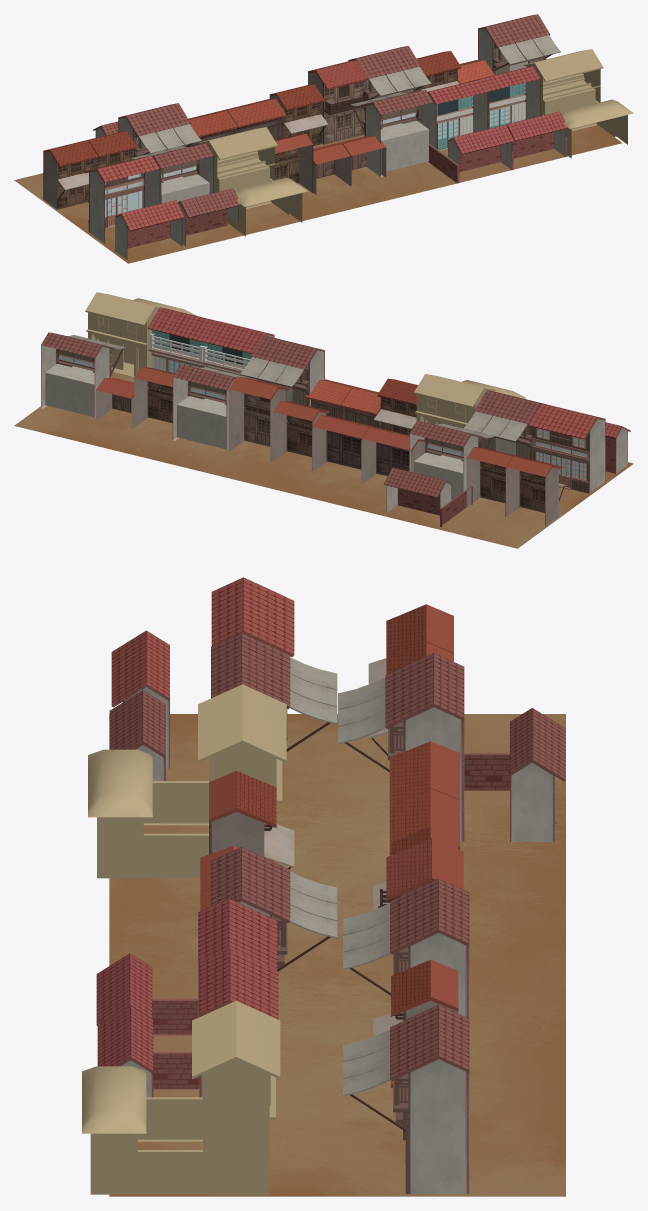
3 renders of one model, top to bottom at view 1: azimuth 30°, elevation 25°; view 2: azimuth 150°, elevation 25°; view 3: azimuth 270°, elevation 25°, orthographic. The views are drawn at different scales.
Parts seen in each view (by area): view 1: Box001, Box009, Box008, Shop003, Shop005, B005, Inn, Shop004, A005, Shop, Pharmacy005, A003 (+13 smaller); view 2: Box001, Shop, B005, Shop004, Shop001, Box008, Shop005, Shop003, Inn, A005, Box009, Pharmacy005 (+11 smaller); view 3: Box001, Box008, Box009, Shop, Shop004, Shop003, Shop001, Shop005, A002, Pharmacy003, B005, A003 (+10 smaller).
Part boxes in pixels (left/top/right/bottom): Box001: left=14, top=125, right=622, bottom=263; Box009: left=198, top=127, right=307, bottom=236; Box008: left=523, top=49, right=633, bottom=158; Shop003: left=130, top=143, right=240, bottom=246; Shop005: left=350, top=89, right=432, bottom=176; B005: left=84, top=156, right=159, bottom=243; Inn: left=308, top=60, right=368, bottom=144; Shop004: left=478, top=14, right=560, bottom=74; A005: left=469, top=66, right=540, bottom=132; Shop: left=93, top=103, right=201, bottom=157; Pharmacy005: left=43, top=140, right=98, bottom=209; A003: left=417, top=79, right=489, bottom=150; Box001: left=14, top=372, right=633, bottom=548; Shop: left=384, top=421, right=494, bottom=527; B005: left=528, top=403, right=605, bottom=493; Shop004: left=41, top=332, right=125, bottom=418; Shop001: left=172, top=364, right=257, bottom=450; Box008: left=85, top=292, right=196, bottom=377; Shop005: left=240, top=335, right=324, bottom=406; Shop003: left=463, top=390, right=546, bottom=459; Inn: left=228, top=376, right=289, bottom=462; A005: left=148, top=307, right=213, bottom=373; Box009: left=414, top=374, right=525, bottom=428; Pharmacy005: left=506, top=456, right=565, bottom=526; Box001: left=109, top=714, right=565, bottom=1196; Box008: left=82, top=1000, right=280, bottom=1195; Box009: left=88, top=684, right=286, bottom=878; Shop: left=338, top=653, right=565, bottom=841; Shop004: left=343, top=1005, right=469, bottom=1193; Shop003: left=109, top=633, right=337, bottom=780; Shop001: left=343, top=878, right=469, bottom=1018; Shop005: left=211, top=847, right=337, bottom=971; A002: left=96, top=953, right=199, bottom=1089; Pharmacy003: left=209, top=770, right=294, bottom=869; B005: left=211, top=577, right=294, bottom=657; A003: left=198, top=898, right=277, bottom=1017.
Size of the model in its own units: 30.27 by 4.14 by 12.72.
